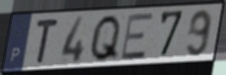4: (59, 15, 88, 65)
7: (159, 9, 185, 60)
9: (186, 8, 214, 58)
E: (119, 12, 155, 62)
Q: (87, 13, 123, 64)
T: (35, 18, 61, 65)
